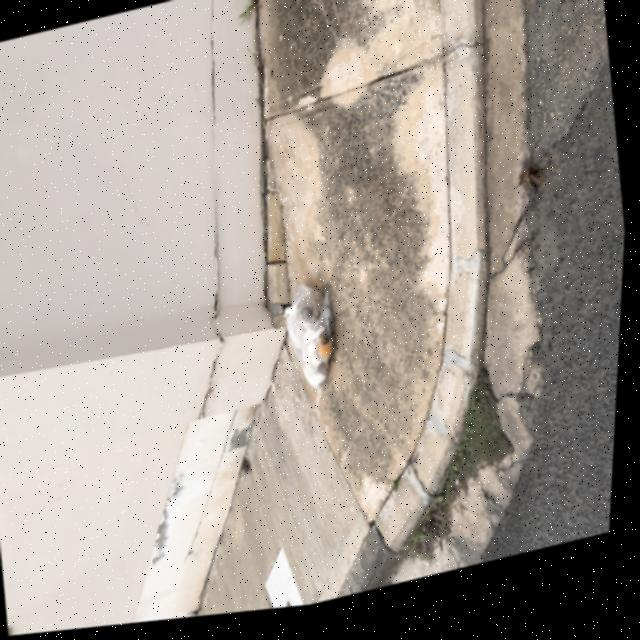Organic Waste -White Bag-: (281, 283, 351, 405)
